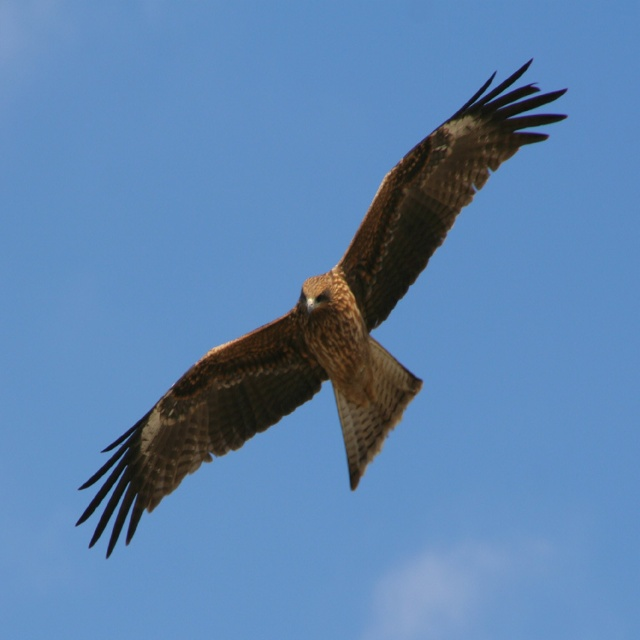Eagle: (75, 58, 568, 559)
